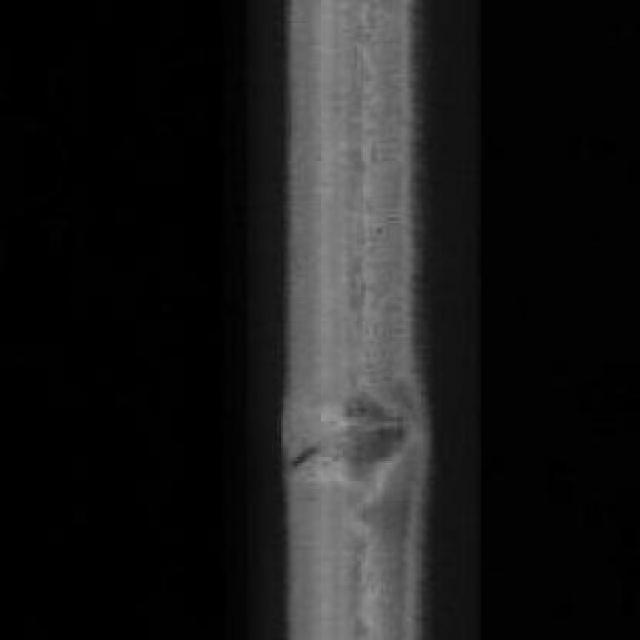defective: (263, 362, 446, 518)
